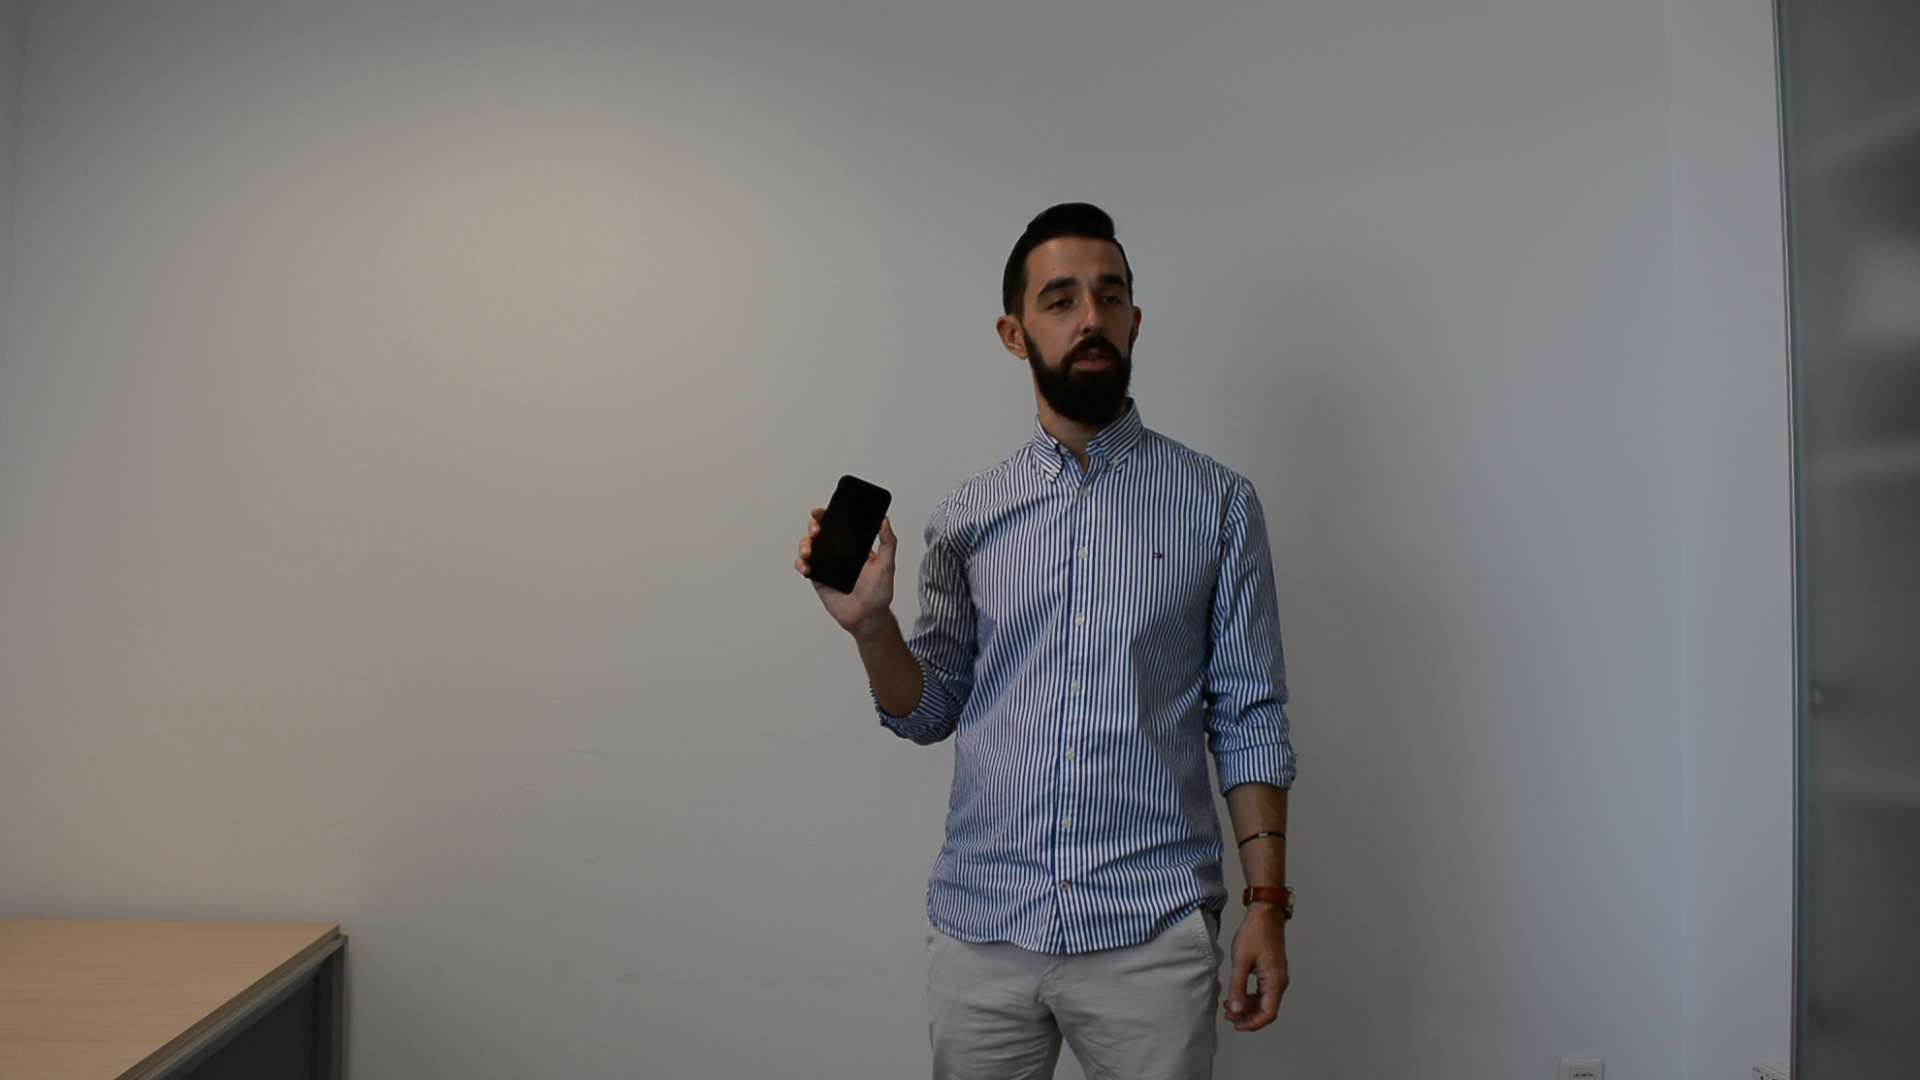smartphone: (800, 472, 895, 596)
